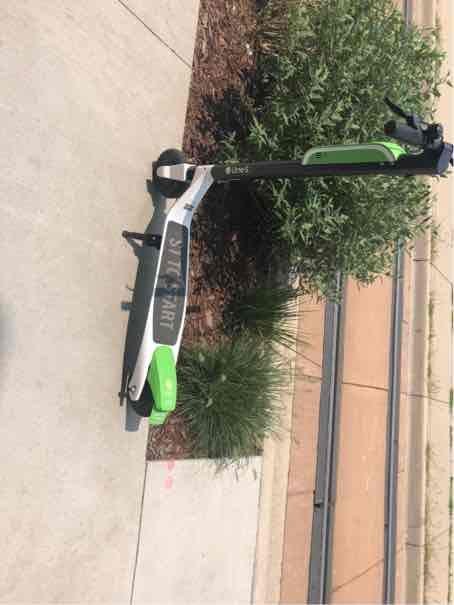scooter: (106, 69, 396, 455)
